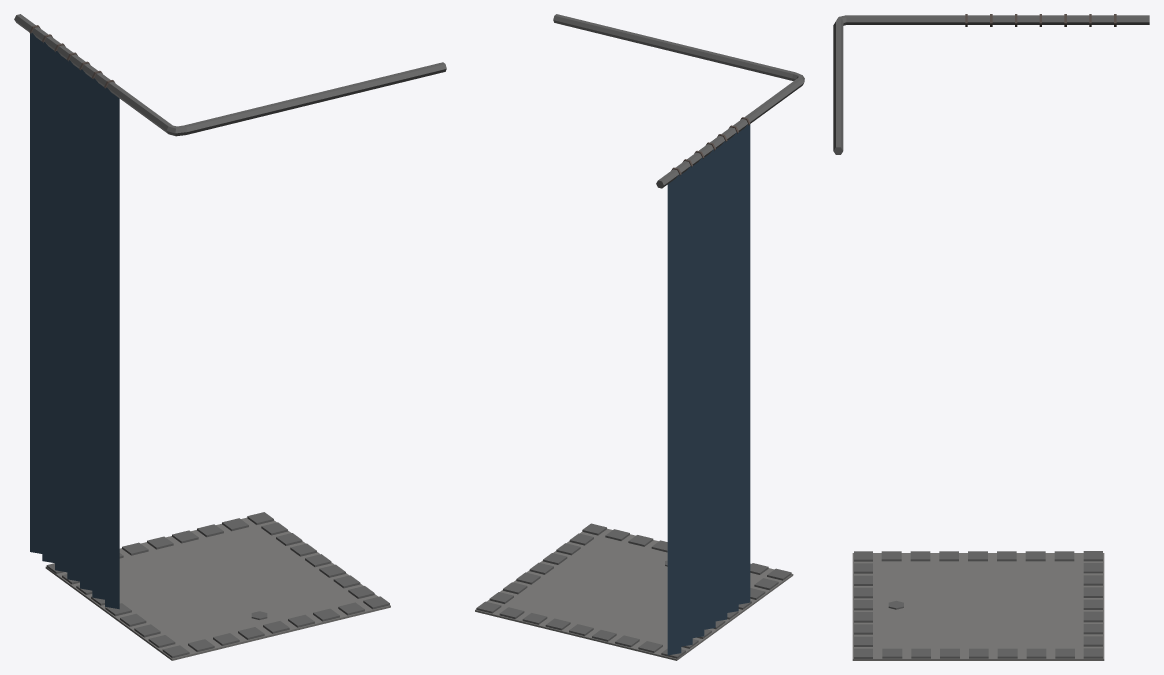
The model's file is Bathroom_Shower1.glb.
3 renders of one model, left to right at view 1: azimuth 30°, elevation 25°; view 2: azimuth 150°, elevation 25°; view 3: azimuth 270°, elevation 25°, orthographic. The views are drawn at different scales.
Parts seen in each view (by area): view 1: Bathroom_Shower1; view 2: Bathroom_Shower1; view 3: Bathroom_Shower1.
Part boxes in pixels (bbox=[...]): Bathroom_Shower1: bbox=[14, 14, 446, 660]; Bathroom_Shower1: bbox=[475, 14, 804, 660]; Bathroom_Shower1: bbox=[833, 14, 1149, 660].
Bounding box in the file's own units: 1.9 × 3.55 × 1.89.
